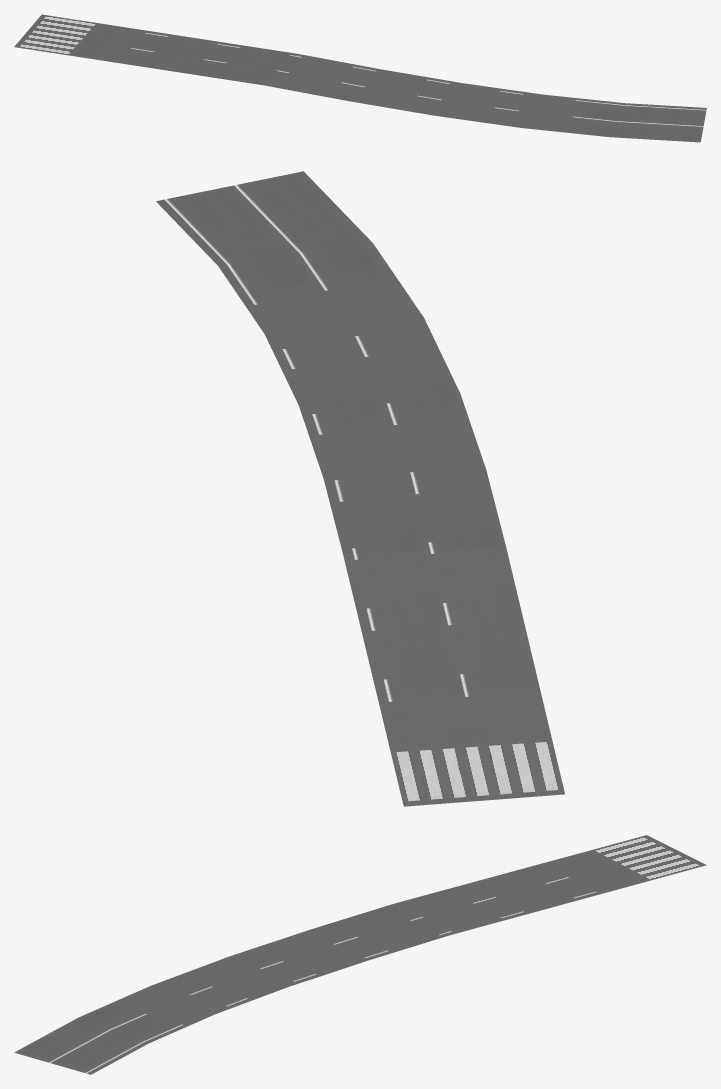
Rendered from my_city2_0.obj.
3 views of the same model, one above another, from view 1: azimuth 30°, elevation 25°; view 2: azimuth 150°, elevation 25°; view 3: azimuth 270°, elevation 25° (orthographic). The views are drawn at different scales.
Parts seen in each view (by area): view 1: CityEngineMaterial_2, CityEngineMaterial_3, CityEngineMaterial, CityEngineMaterial_1; view 2: CityEngineMaterial_2, CityEngineMaterial_3, CityEngineMaterial, CityEngineMaterial_1; view 3: CityEngineMaterial_2, CityEngineMaterial_3, CityEngineMaterial, CityEngineMaterial_1.
Part boxes in pixels (bbox=[...]): CityEngineMaterial_2: bbox=[93, 29, 548, 129]; CityEngineMaterial_3: bbox=[536, 97, 706, 142]; CityEngineMaterial: bbox=[14, 14, 706, 109]; CityEngineMaterial_1: bbox=[19, 15, 96, 55]; CityEngineMaterial_2: bbox=[270, 305, 546, 726]; CityEngineMaterial_3: bbox=[164, 171, 414, 327]; CityEngineMaterial: bbox=[156, 199, 564, 806]; CityEngineMaterial_1: bbox=[391, 741, 563, 801]; CityEngineMaterial_2: bbox=[138, 856, 621, 1015]; CityEngineMaterial_3: bbox=[14, 991, 205, 1073]; CityEngineMaterial: bbox=[87, 835, 706, 1074]; CityEngineMaterial_1: bbox=[593, 836, 701, 880].
Size of the model in its own units: 44.21 by 0.784 by 51.95.
Materials: 4 (4 with a texture image).
